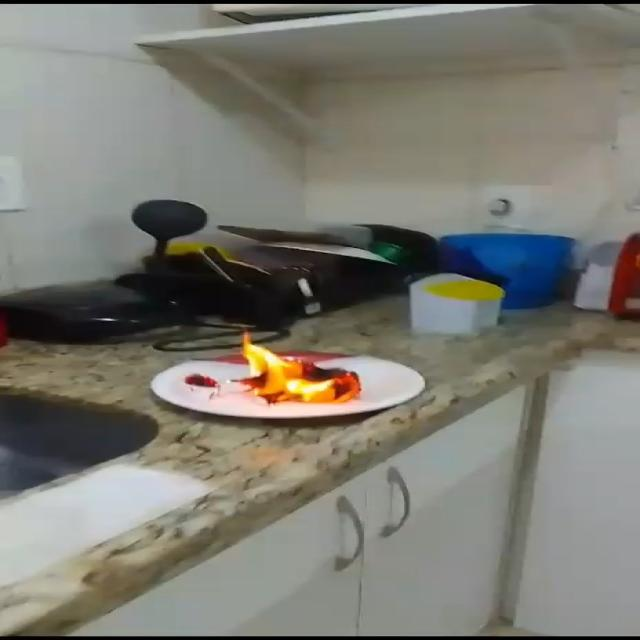fogo-ypXI: (235, 325, 365, 407)
